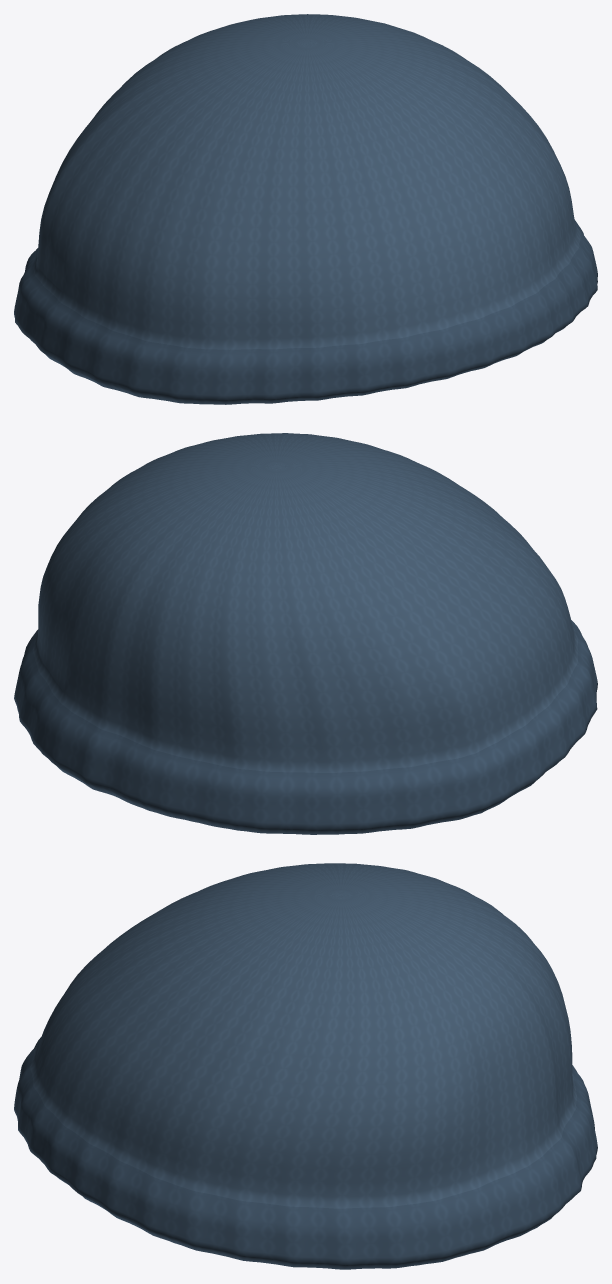
File: beanie-feminine-curls.glb
3 views of the same model, one above another, from view 1: azimuth 30°, elevation 25°; view 2: azimuth 150°, elevation 25°; view 3: azimuth 270°, elevation 25° (orthographic). The views are drawn at different scales.
Visible parts, largest first — view 1: Beanie / fitted knit; view 2: Beanie / fitted knit; view 3: Beanie / fitted knit.
Part boxes in pixels (bbox=[...]): Beanie / fitted knit: bbox=[14, 14, 597, 404]; Beanie / fitted knit: bbox=[14, 433, 597, 834]; Beanie / fitted knit: bbox=[14, 863, 597, 1269].
Size of the model in its own units: 0.8204 by 0.4059 by 0.7961.
2 materials, 2 textured.
